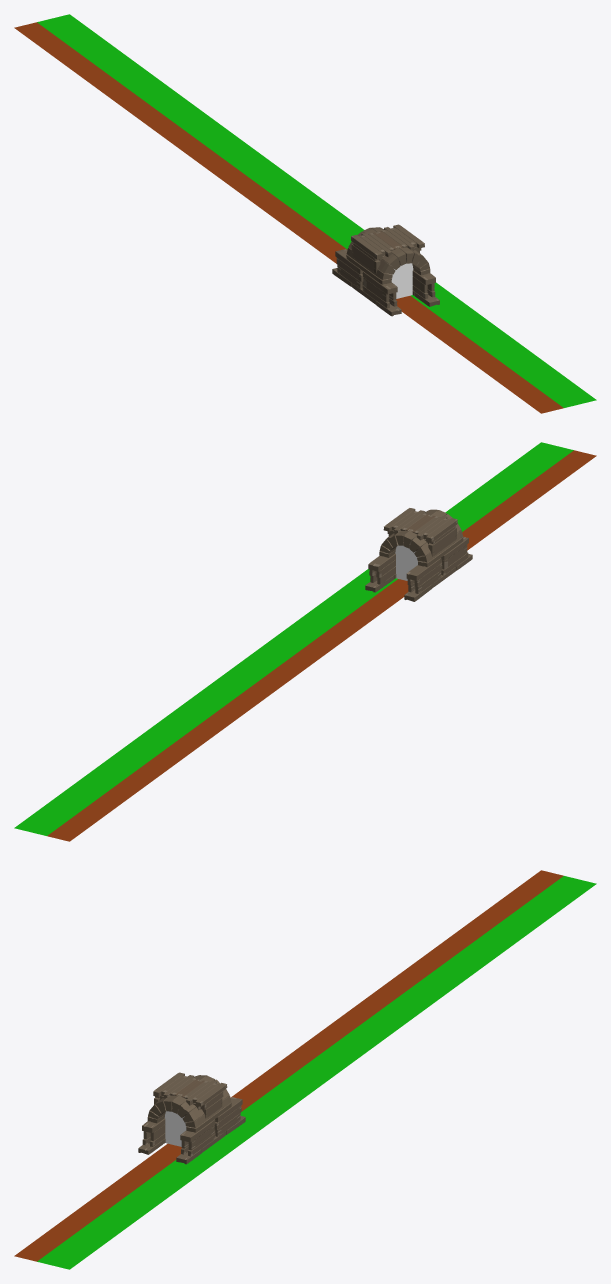
Rendered from terra.glb.
3 views of the same model, one above another, from view 1: azimuth 30°, elevation 25°; view 2: azimuth 150°, elevation 25°; view 3: azimuth 330°, elevation 25° (orthographic).
Visible parts, largest first — view 1: herba.E, Terra, Arch, neblina; view 2: herba.E, Terra, Arch, neblina; view 3: herba.E, Terra, Arch, neblina.
Boxes of the visible parts, left/top/right/bottom form: herba.E: left=37, top=14, right=596, bottom=407; Terra: left=14, top=22, right=563, bottom=413; Arch: left=332, top=224, right=439, bottom=316; neblina: left=391, top=263, right=413, bottom=298; herba.E: left=14, top=442, right=573, bottom=835; Terra: left=47, top=450, right=596, bottom=841; Arch: left=365, top=508, right=472, bottom=601; neblina: left=395, top=545, right=417, bottom=580; herba.E: left=37, top=876, right=596, bottom=1269; Terra: left=14, top=870, right=563, bottom=1261; Arch: left=138, top=1072, right=245, bottom=1164; neblina: left=164, top=1111, right=186, bottom=1146.
Size of the model in its own units: 18.17 by 12.76 by 240.
